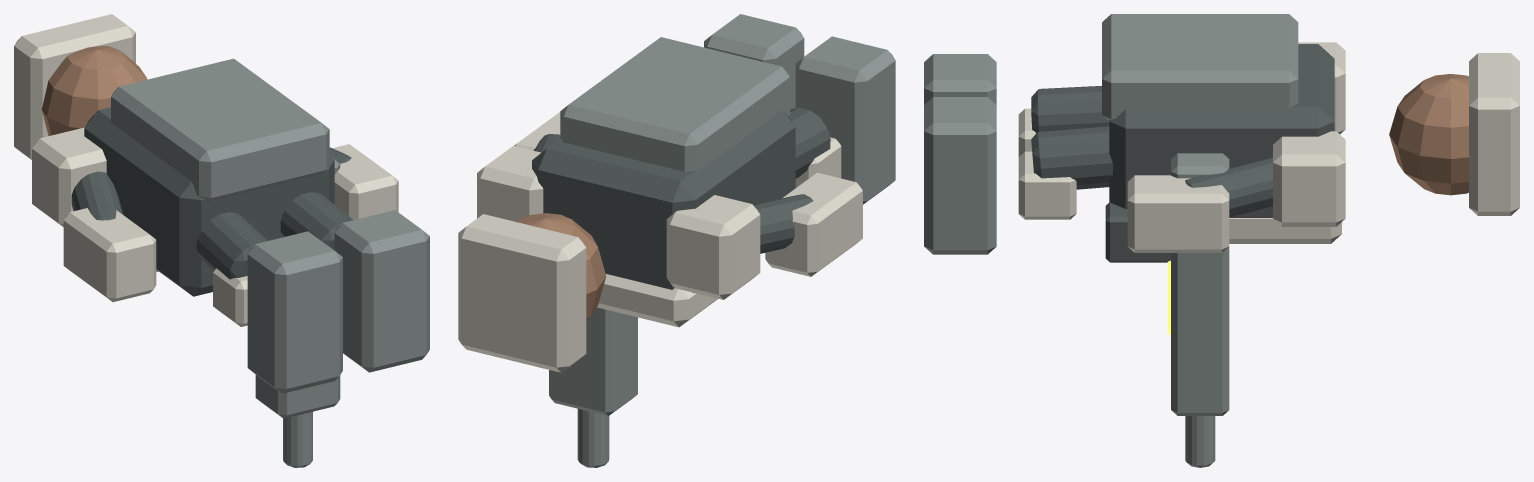
Rendered from CrewSoldier.fbx.
3 renders of one model, left to right at view 1: azimuth 30°, elevation 25°; view 2: azimuth 150°, elevation 25°; view 3: azimuth 270°, elevation 25°, orthographic. The views are drawn at different scales.
Visible parts, largest first — view 1: Pack, Boot, Torso, Boot.001, Forearm, Helmet, Head, Shoulder, Forearm.001, Thigh, Thigh.001, RifleBody (+3 smaller); view 2: Pack, Torso, Helmet, Boot, Shoulder, RifleBody, Forearm, Shoulder.001, Boot.001, ChestArmor, Head, UpperArm (+4 smaller); view 3: Pack, Torso, Boot.001, RifleBody, Helmet, Head, Forearm.001, Shoulder.001, Thigh.001, Boot, Thigh, Knee.001 (+6 smaller).
Boxes of the visible parts, x1,y1,x2,y2 form: Pack: (111,58,329,201); Boot: (247,231,342,393); Torso: (84,107,334,296); Boot.001: (334,210,429,372); Forearm: (63,208,156,301); Helmet: (14,14,135,159); Head: (41,46,147,135); Shoulder: (32,127,106,227); Forearm.001: (332,144,398,219); Thigh: (196,212,267,279); Thigh.001: (280,192,353,250); RifleBody: (255,157,340,418); Pack: (560,37,790,171); Torso: (532,110,795,292); Helmet: (458,214,586,372); Boot: (795,36,895,204); Shoulder: (666,195,760,299); RifleBody: (549,307,637,415); Forearm: (765,172,862,276); Shoulder.001: (477,146,543,221); Boot.001: (704,14,804,109); ChestArmor: (597,274,717,327); Head: (517,213,606,319); UpperArm: (753,194,813,253); Pack: (1102,14,1298,121); Torso: (1109,44,1334,217); Boot.001: (924,97,996,254); RifleBody: (1171,153,1229,415); Helmet: (1469,53,1519,215); Head: (1389,74,1469,195); Forearm.001: (1127,175,1229,252); Shoulder.001: (1273,131,1345,226); Thigh.001: (1031,126,1112,189); Boot: (924,54,996,104); Thigh: (1031,86,1109,132); Knee.001: (1018,151,1076,219).
Bounding box in the file's own units: 94 × 116 × 164.
